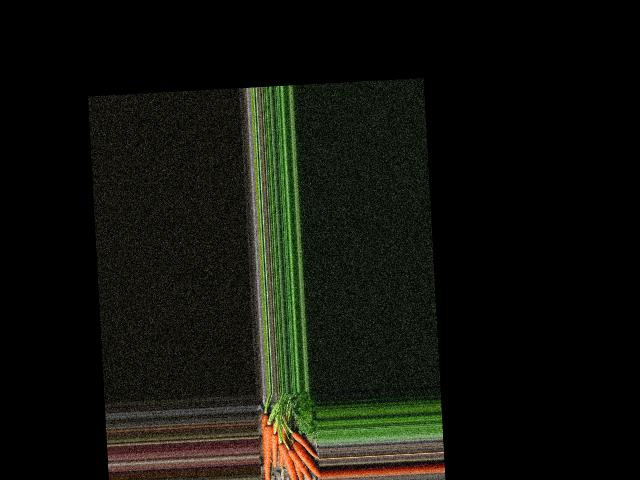carrot: (291, 429, 317, 457)
